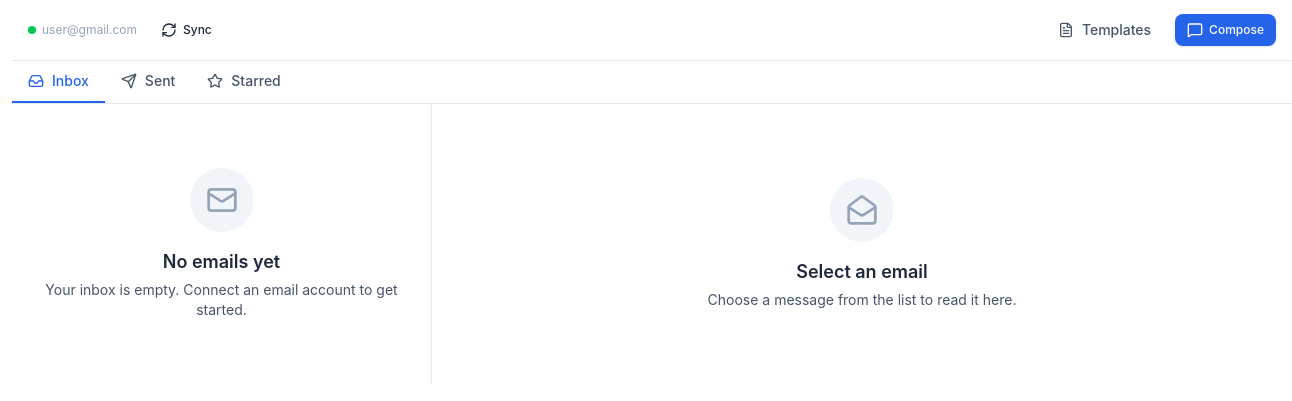
EmailPage — Sent Tab › switches to Sent tab and shows sent emails
Expected: the heading "No emails yet" is shown, [163,248,280,276]
Step 1. Click the button "Sent" → (148, 82), box [105,61,191,103]
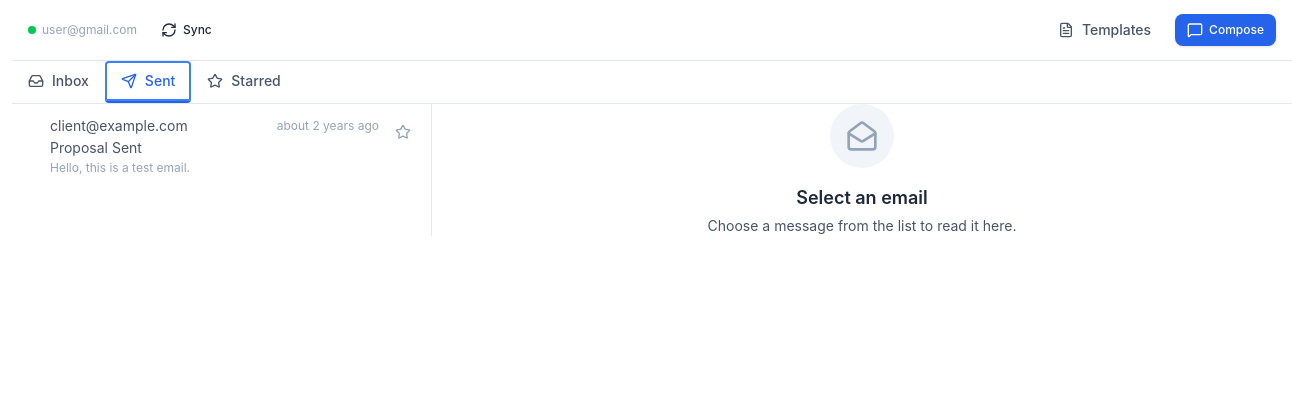
Result: the text "Proposal Sent" is shown at [50,139,142,156]
